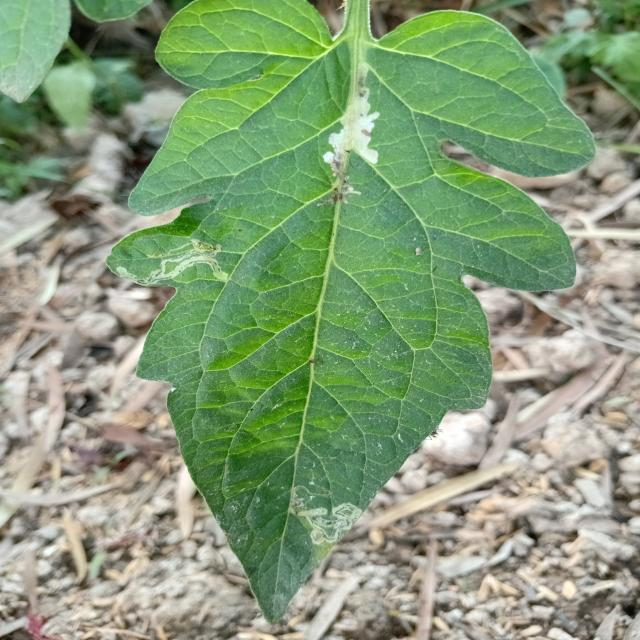Tuta absoluta: (317, 60, 409, 189), (113, 234, 229, 302), (290, 498, 363, 547)
